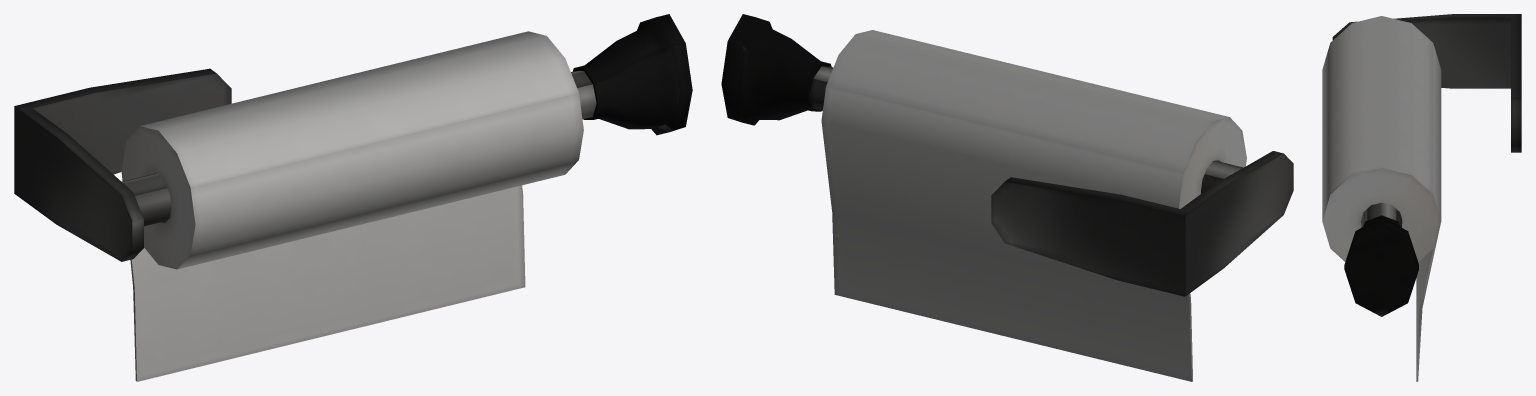
File: toilet_paper.fbx
The picture shows the model from 3 angles, left to right: view 1: azimuth 30°, elevation 25°; view 2: azimuth 150°, elevation 25°; view 3: azimuth 270°, elevation 25°; orthographic projection. The views are drawn at different scales.
Parts seen in each view (by area): view 1: toilet_paper; view 2: toilet_paper; view 3: toilet_paper.
Part boxes in pixels (x1,y1,x2,y2): toilet_paper: (14,14,692,381); toilet_paper: (721,14,1293,381); toilet_paper: (1322,14,1521,381).
Bounding box in the file's own units: 0.3058 × 0.1374 × 0.1159.
